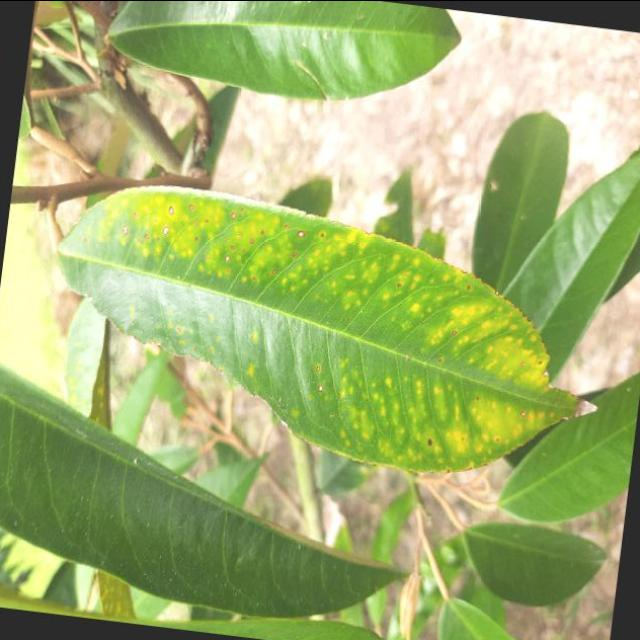Leaf Spot: (22, 163, 628, 502)
